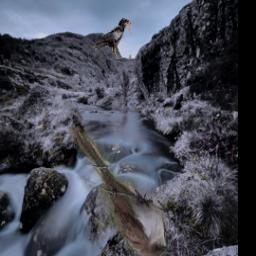Crow: (93, 16, 133, 59)
Cuckoo: (69, 125, 174, 256)
